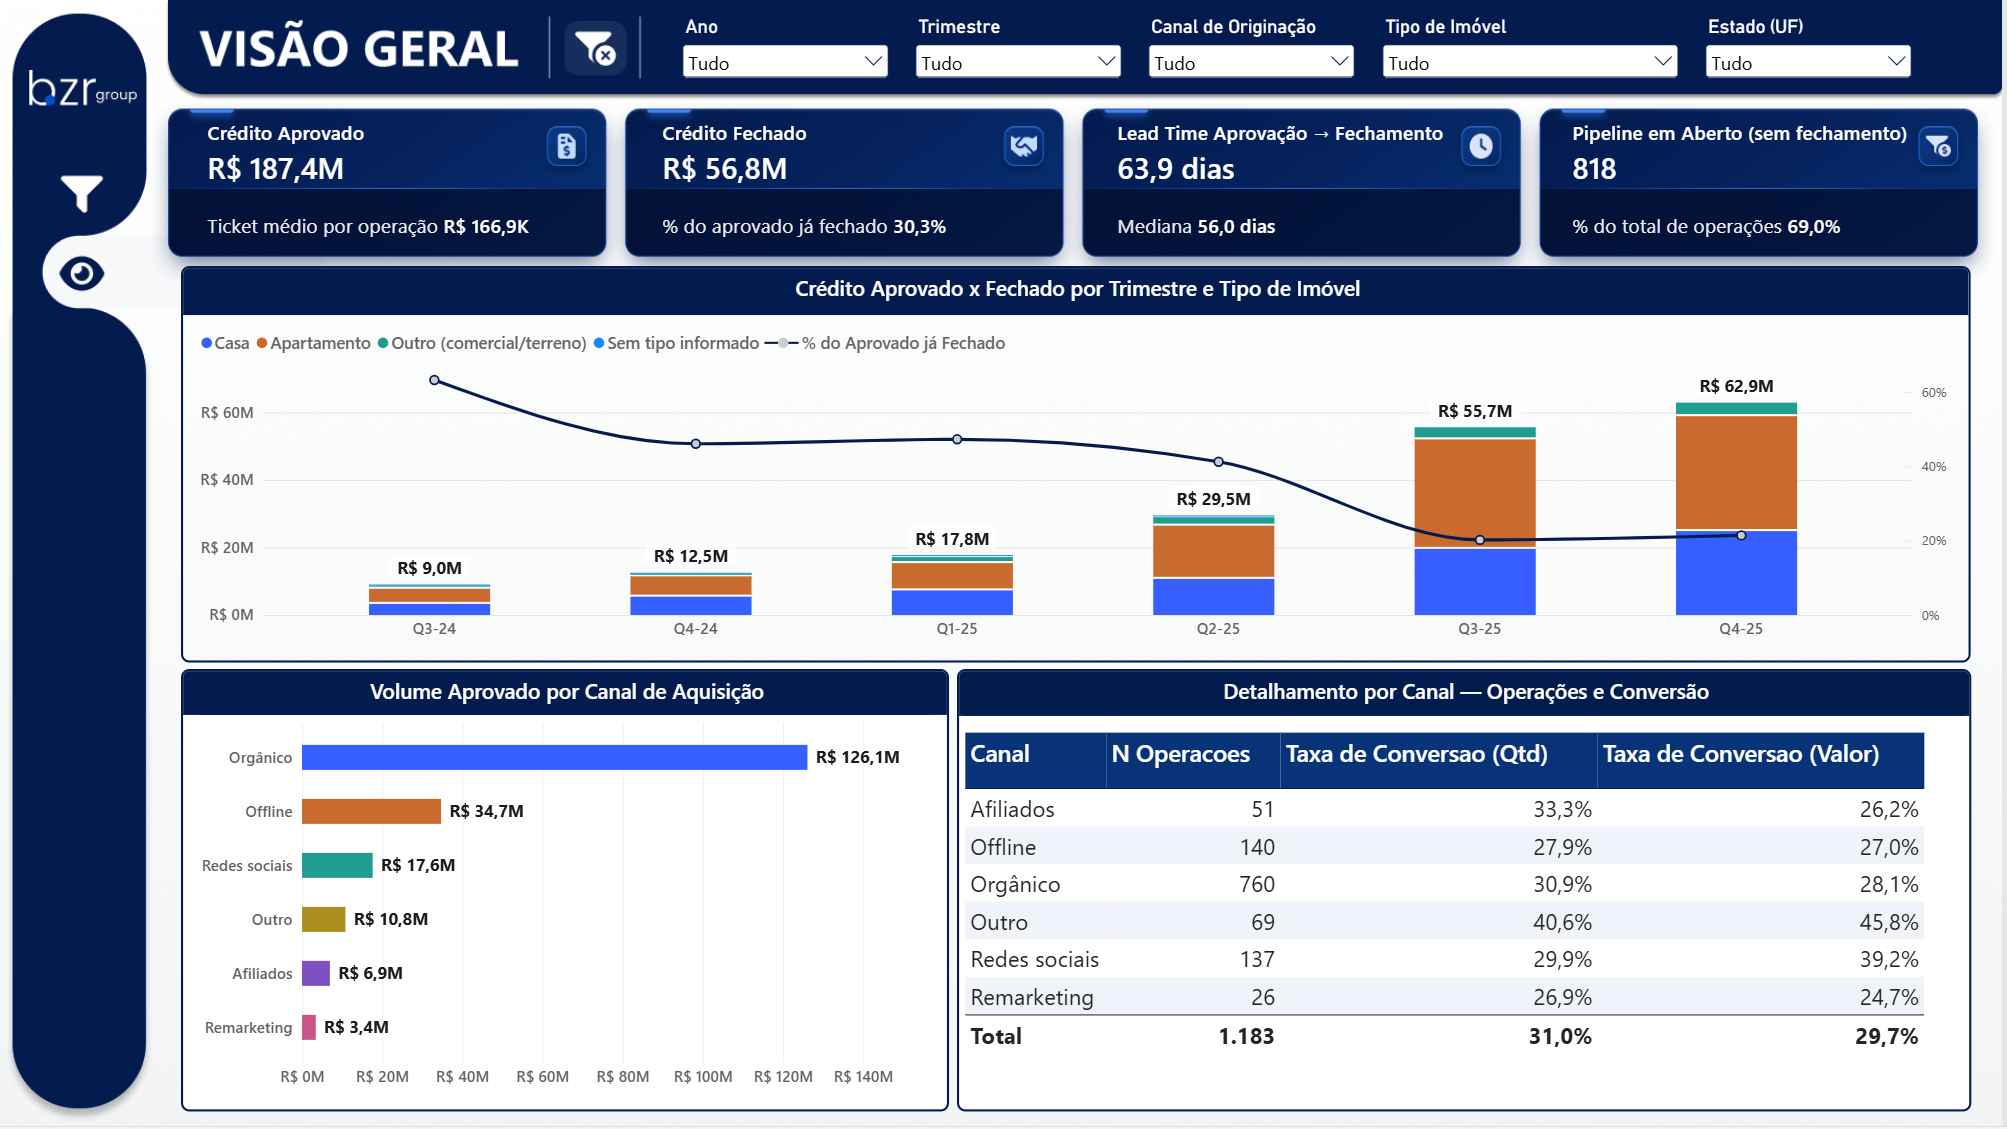

What the dashboard file says about the page in this screenshot:
{"tool":"powerbi","page":{"name":"Visão Geral","canvas":[1920,1080],"ordinal":1},"visuals":[{"type":"slicer","title":"Estado (UF)","fields":{"Values":["Fact_Operacoes.UF"]},"box":[1630,15.3,208.3,74],"z":0,"group":"g1"},{"type":"actionButton","title":"btn_reset_filtros","box":[527,10.9,84.2,70],"z":1000,"group":"g4"},{"type":"slicer","title":"Tipo de Imóvel","fields":{"Values":["Dim_TipoImovel.TipoImovel"]},"box":[1320.7,15.3,294,74],"z":1000,"group":"g1"},{"type":"group","id":"g1","title":"g_filtros_rapidos","box":[650,15.3,1188.3,74],"z":1500,"group":"g4"},{"type":"slicer","title":"Canal de Originação","fields":{"Values":["Dim_Canal.Canal"]},"box":[1097,15.3,208.3,74],"z":2000,"group":"g1"},{"type":"actionButton","title":"btn_visão_geral","box":[55.2,232.5,48.3,53.3],"z":2000,"group":"g3"},{"type":"group","id":"g2","title":"g_graficos","box":[163.7,106,1757.2,960],"z":2500},{"type":"group","id":"g3","title":"g_btn_navegacao","box":[21.5,54.9,112.5,230.9],"z":2750},{"type":"group","id":"g4","title":"g_topbar","box":[527,10.9,1311.3,78.4],"z":2875},{"type":"slicer","title":"Trimestre","fields":{"Values":["Dim_Calendario.TrimestreQ"]},"box":[873.3,15.3,208.3,74],"z":3000,"group":"g1"},{"type":"actionButton","title":"btn_menu_on","box":[51.9,158.3,56.7,52.5],"z":3000,"group":"g3"},{"type":"slicer","title":"Ano","fields":{"Values":["Dim_Calendario.Ano"]},"box":[650,15.3,208,74],"z":4000,"group":"g1"},{"type":"actionButton","title":"btn_home","box":[21.5,54.9,112.5,60.8],"z":4000,"group":"g3"},{"type":"cardVisual","title":"Cartão KPIs","fields":{"Data":["_Medidas.Valor Aprovado (Janela)","_Medidas.Valor Fechado (Janela)","_Medidas.Lead Time Medio (Dias)","_Medidas.Pipeline Aberto"]},"box":[163.7,106,1757.2,168.4],"z":4000,"group":"g2"},{"type":"tableEx","title":"Detalhamento por Canal — Operações e Conversão","fields":{"Values":["Dim_Canal.Canal","_Medidas.N Operacoes","_Medidas.Taxa de Conversao (Qtd)","_Medidas.Taxa de Conversao (Valor)"]},"box":[918,642,972,424],"z":5000,"group":"g2"},{"type":"lineStackedColumnComboChart","title":"Crédito Aprovado x Fechado por Trimestre e Tipo de Imóvel","fields":{"Category":["Dim_Calendario.TrimestreQ"],"Series":["Dim_TipoImovel.TipoImovel"],"Y":["_Medidas.Valor Aprovado (Janela)"],"Y2":["_Medidas.% Fechado (Janela)"]},"box":[174.6,255.7,1715.1,380.4],"z":6000,"group":"g2"},{"type":"barChart","title":"Volume Aprovado por Canal de Aquisição","fields":{"Category":["Dim_Canal.Canal"],"Y":["_Medidas.Valor Aprovado"]},"box":[174,642,736,424],"z":7000,"group":"g2"}]}

Visuals, with their boxes in screenshot pixels (x1, y1, x2, y2), scaled from the page's 1920x1080 canvas onto the 2007x1129 screenshot:
"Estado (UF)" slicer: (1704, 16, 1922, 93)
"btn_reset_filtros" actionButton: (551, 11, 639, 85)
"Tipo de Imóvel" slicer: (1381, 16, 1688, 93)
"g_filtros_rapidos" group: (679, 16, 1922, 93)
"Canal de Originação" slicer: (1147, 16, 1364, 93)
"btn_visão_geral" actionButton: (58, 243, 108, 299)
"g_graficos" group: (171, 111, 2006, 1114)
"g_btn_navegacao" group: (22, 57, 140, 299)
"g_topbar" group: (551, 11, 1922, 93)
"Trimestre" slicer: (913, 16, 1131, 93)
"btn_menu_on" actionButton: (54, 165, 114, 220)
"Ano" slicer: (679, 16, 897, 93)
"btn_home" actionButton: (22, 57, 140, 121)
"Cartão KPIs" cardVisual: (171, 111, 2006, 287)
"Detalhamento por Canal — Operações e Conversão" tableEx: (960, 671, 1976, 1114)
"Crédito Aprovado x Fechado por Trimestre e Tipo de Imóvel" lineStackedColumnComboChart: (183, 267, 1975, 665)
"Volume Aprovado por Canal de Aquisição" barChart: (182, 671, 951, 1114)
